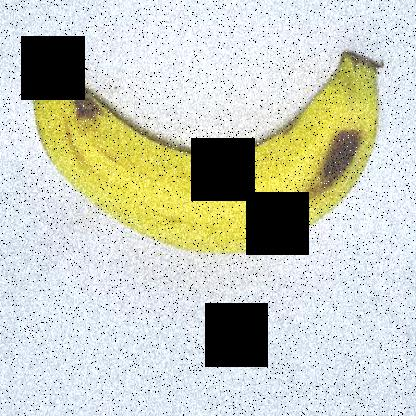freshripe: (27, 34, 398, 268)
